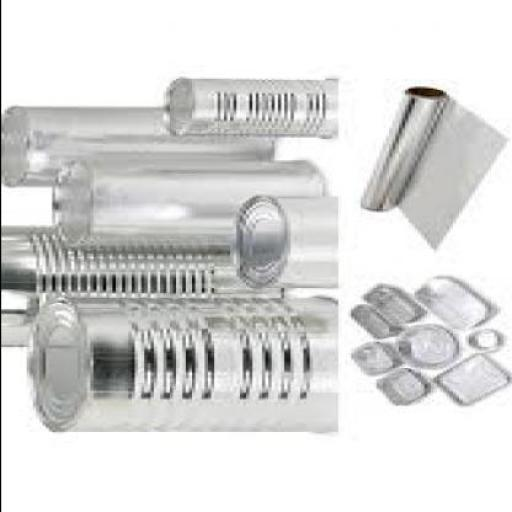metal: (22, 295, 334, 430), (1, 221, 281, 346), (48, 156, 324, 242), (359, 85, 500, 249), (0, 104, 271, 184), (159, 77, 331, 136), (225, 194, 331, 288), (410, 275, 496, 327), (426, 354, 506, 402), (394, 324, 455, 366), (359, 283, 420, 323), (372, 367, 420, 402), (346, 303, 394, 335), (346, 340, 394, 372), (464, 329, 494, 348)
